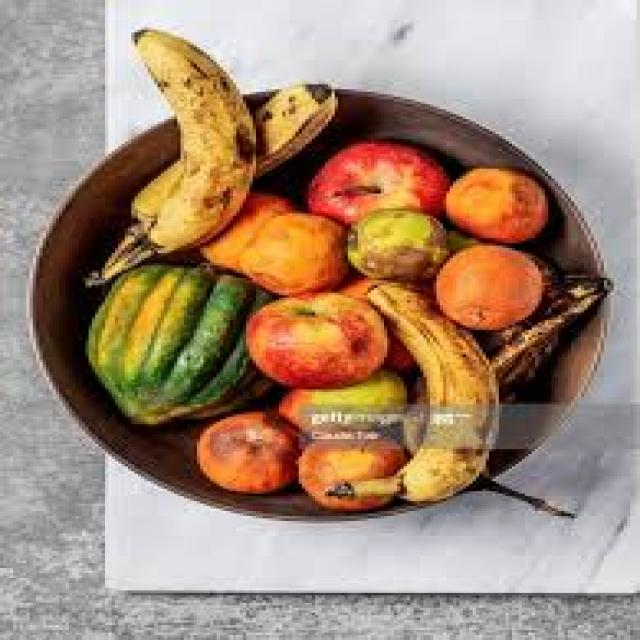biodegradable: (391, 273, 607, 521), (95, 82, 328, 280), (85, 27, 253, 283), (322, 278, 496, 501), (82, 263, 266, 427), (240, 288, 384, 389), (306, 136, 447, 226), (233, 211, 345, 295), (430, 243, 538, 328), (437, 159, 542, 241), (341, 278, 430, 370), (272, 375, 404, 437), (194, 409, 295, 489), (342, 208, 457, 273), (197, 189, 292, 266), (295, 439, 407, 504), (400, 375, 430, 449)
paper: (95, 0, 637, 593)
